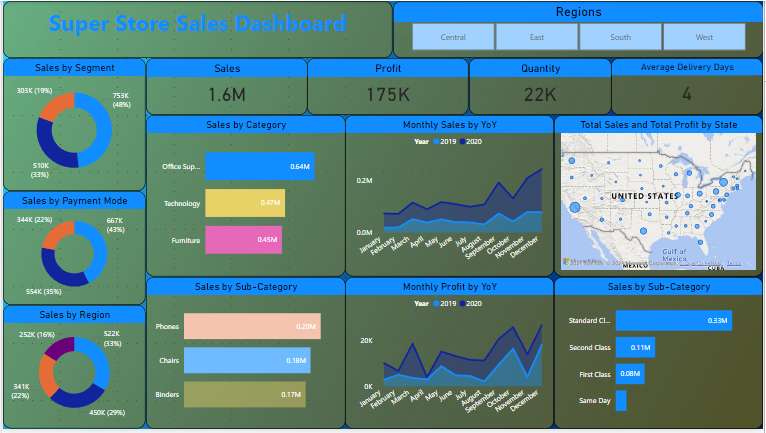

This screenshot's page, from the dashboard's own definition file:
{"tool":"powerbi","page":{"name":"Dashboard","canvas":[1280,720],"ordinal":0},"visuals":[{"type":"clusteredBarChart","title":"Sales by Category","fields":{"Category":["SuperStore_Sales_Dataset.Category"],"Y":["Sum(SuperStore_Sales_Dataset.Sales)"]},"box":[240,192,336,272],"z":0},{"type":"clusteredBarChart","title":"Sales by Sub-Category","fields":{"Y":["Sum(SuperStore_Sales_Dataset.Sales)"],"Category":["SuperStore_Sales_Dataset.Sub-Category"]},"box":[240,464,336,256],"z":1000},{"type":"clusteredBarChart","title":"Sales by Sub-Category","fields":{"Y":["Sum(SuperStore_Sales_Dataset.Sales)"],"Category":["SuperStore_Sales_Dataset.Ship Mode"]},"box":[928,464,352,256],"z":2000},{"type":"stackedAreaChart","title":"Monthly Sales by YoY","fields":{"Category":["SuperStore_Sales_Dataset.Order Date.Variation.Date Hierarchy.Month"],"Y":["Sum(SuperStore_Sales_Dataset.Sales)"],"Series":["SuperStore_Sales_Dataset.Order Date.Variation.Date Hierarchy.Year"]},"box":[576,192,352,272],"z":3000},{"type":"stackedAreaChart","title":"Monthly Profit by YoY","fields":{"Category":["SuperStore_Sales_Dataset.Order Date.Variation.Date Hierarchy.Month"],"Series":["SuperStore_Sales_Dataset.Order Date.Variation.Date Hierarchy.Year"],"Y":["Sum(SuperStore_Sales_Dataset.Profit)"]},"box":[576,464,352,256],"z":4000},{"type":"map","title":"Total Sales and Total Profit by State","fields":{"Category":["SuperStore_Sales_Dataset.State"],"Size":["Sum(SuperStore_Sales_Dataset.Sales)"]},"box":[928,192,352,272],"z":5000},{"type":"donutChart","title":"Sales by Segment","fields":{"Category":["SuperStore_Sales_Dataset.Segment"],"Y":["Sum(SuperStore_Sales_Dataset.Sales)"]},"box":[0,96,240,224],"z":6000},{"type":"donutChart","title":"Sales by Region","fields":{"Y":["Sum(SuperStore_Sales_Dataset.Sales)"],"Category":["SuperStore_Sales_Dataset.Region"]},"box":[0,512,240,208],"z":7000},{"type":"donutChart","title":"Sales by Payment Mode","fields":{"Y":["Sum(SuperStore_Sales_Dataset.Sales)"],"Category":["SuperStore_Sales_Dataset.Payment Mode"]},"box":[0,320,240,192],"z":8000},{"type":"slicer","title":"Regions","fields":{"Values":["SuperStore_Sales_Dataset.Region"]},"box":[656,0,624,96],"z":9000},{"type":"textbox","box":[0,0,656,96],"z":10000},{"type":"card","title":"Sales","fields":{"Values":["Sum(SuperStore_Sales_Dataset.Sales)"]},"box":[240,96,272,96],"z":11000},{"type":"card","title":"Profit","fields":{"Values":["Sum(SuperStore_Sales_Dataset.Profit)"]},"box":[512,96,272,96],"z":12000},{"type":"card","title":"Quantity","fields":{"Values":["Sum(SuperStore_Sales_Dataset.Quantity)"]},"box":[784,96,240,96],"z":13000},{"type":"card","title":"Average Delivery Days","fields":{"Values":["Avg(SuperStore_Sales_Dataset.Avg Delivery Days)"]},"box":[1024,96,256,96],"z":14000}]}

Visuals, with their boxes in screenshot pixels (x1, y1, x2, y2), scaled from the page's 1280x720 canvas onto the 766x433 screenshot:
"Sales by Category" clusteredBarChart: detection(144, 115, 345, 279)
"Sales by Sub-Category" clusteredBarChart: detection(144, 279, 345, 432)
"Sales by Sub-Category" clusteredBarChart: detection(555, 279, 765, 432)
"Monthly Sales by YoY" stackedAreaChart: detection(345, 115, 555, 279)
"Monthly Profit by YoY" stackedAreaChart: detection(345, 279, 555, 432)
"Total Sales and Total Profit by State" map: detection(555, 115, 765, 279)
"Sales by Segment" donutChart: detection(0, 58, 144, 192)
"Sales by Region" donutChart: detection(0, 308, 144, 432)
"Sales by Payment Mode" donutChart: detection(0, 192, 144, 308)
"Regions" slicer: detection(393, 0, 765, 58)
textbox: detection(0, 0, 393, 58)
"Sales" card: detection(144, 58, 306, 115)
"Profit" card: detection(306, 58, 469, 115)
"Quantity" card: detection(469, 58, 613, 115)
"Average Delivery Days" card: detection(613, 58, 765, 115)
